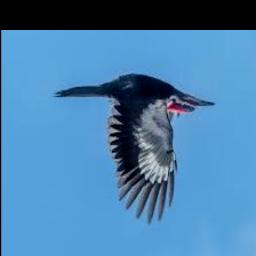Woodpecker: (53, 74, 216, 225)
